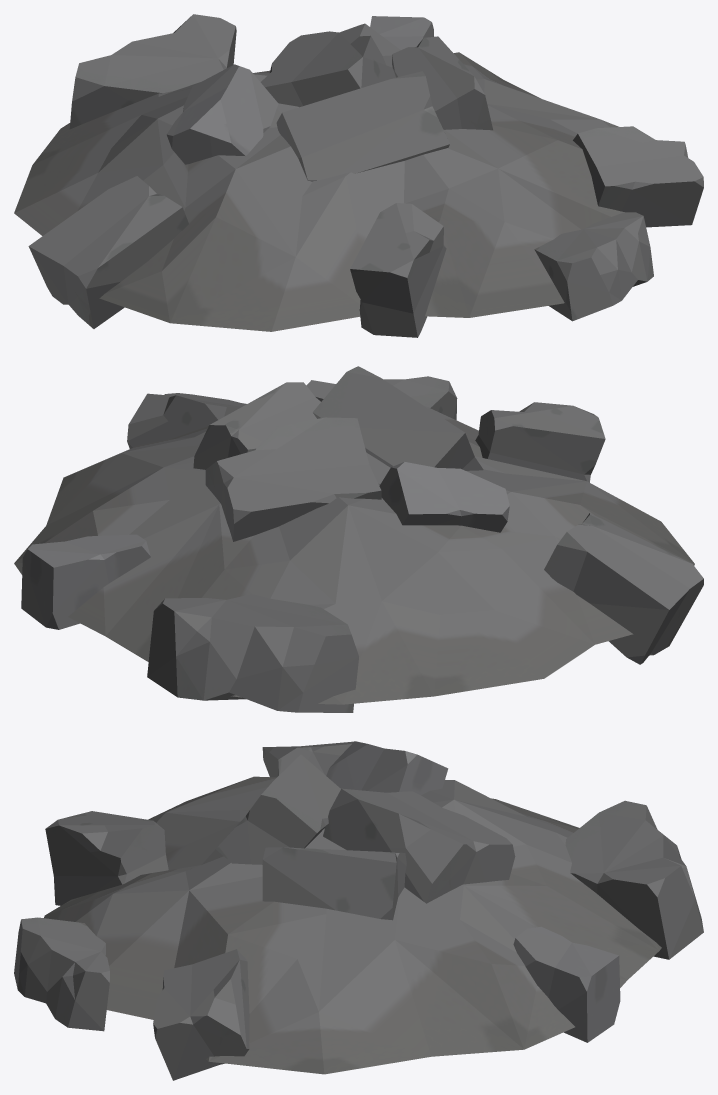
The model's file is SM_Bld_Wall_Rubble_Flat_01.fbx.
The picture shows the model from 3 angles, top to bottom: view 1: azimuth 30°, elevation 25°; view 2: azimuth 150°, elevation 25°; view 3: azimuth 270°, elevation 25°; orthographic projection. The views are drawn at different scales.
Parts seen in each view (by area): view 1: SM_Bld_Wall_Rubble_Flat_01; view 2: SM_Bld_Wall_Rubble_Flat_01; view 3: SM_Bld_Wall_Rubble_Flat_01.
Part boxes in pixels (left/top/right/bottom): SM_Bld_Wall_Rubble_Flat_01: left=14, top=14, right=703, bottom=337; SM_Bld_Wall_Rubble_Flat_01: left=14, top=366, right=703, bottom=712; SM_Bld_Wall_Rubble_Flat_01: left=14, top=741, right=703, bottom=1080.
Bounding box in the file's own units: 681 × 199 × 657.
Materials: 1 (1 with a texture image).
